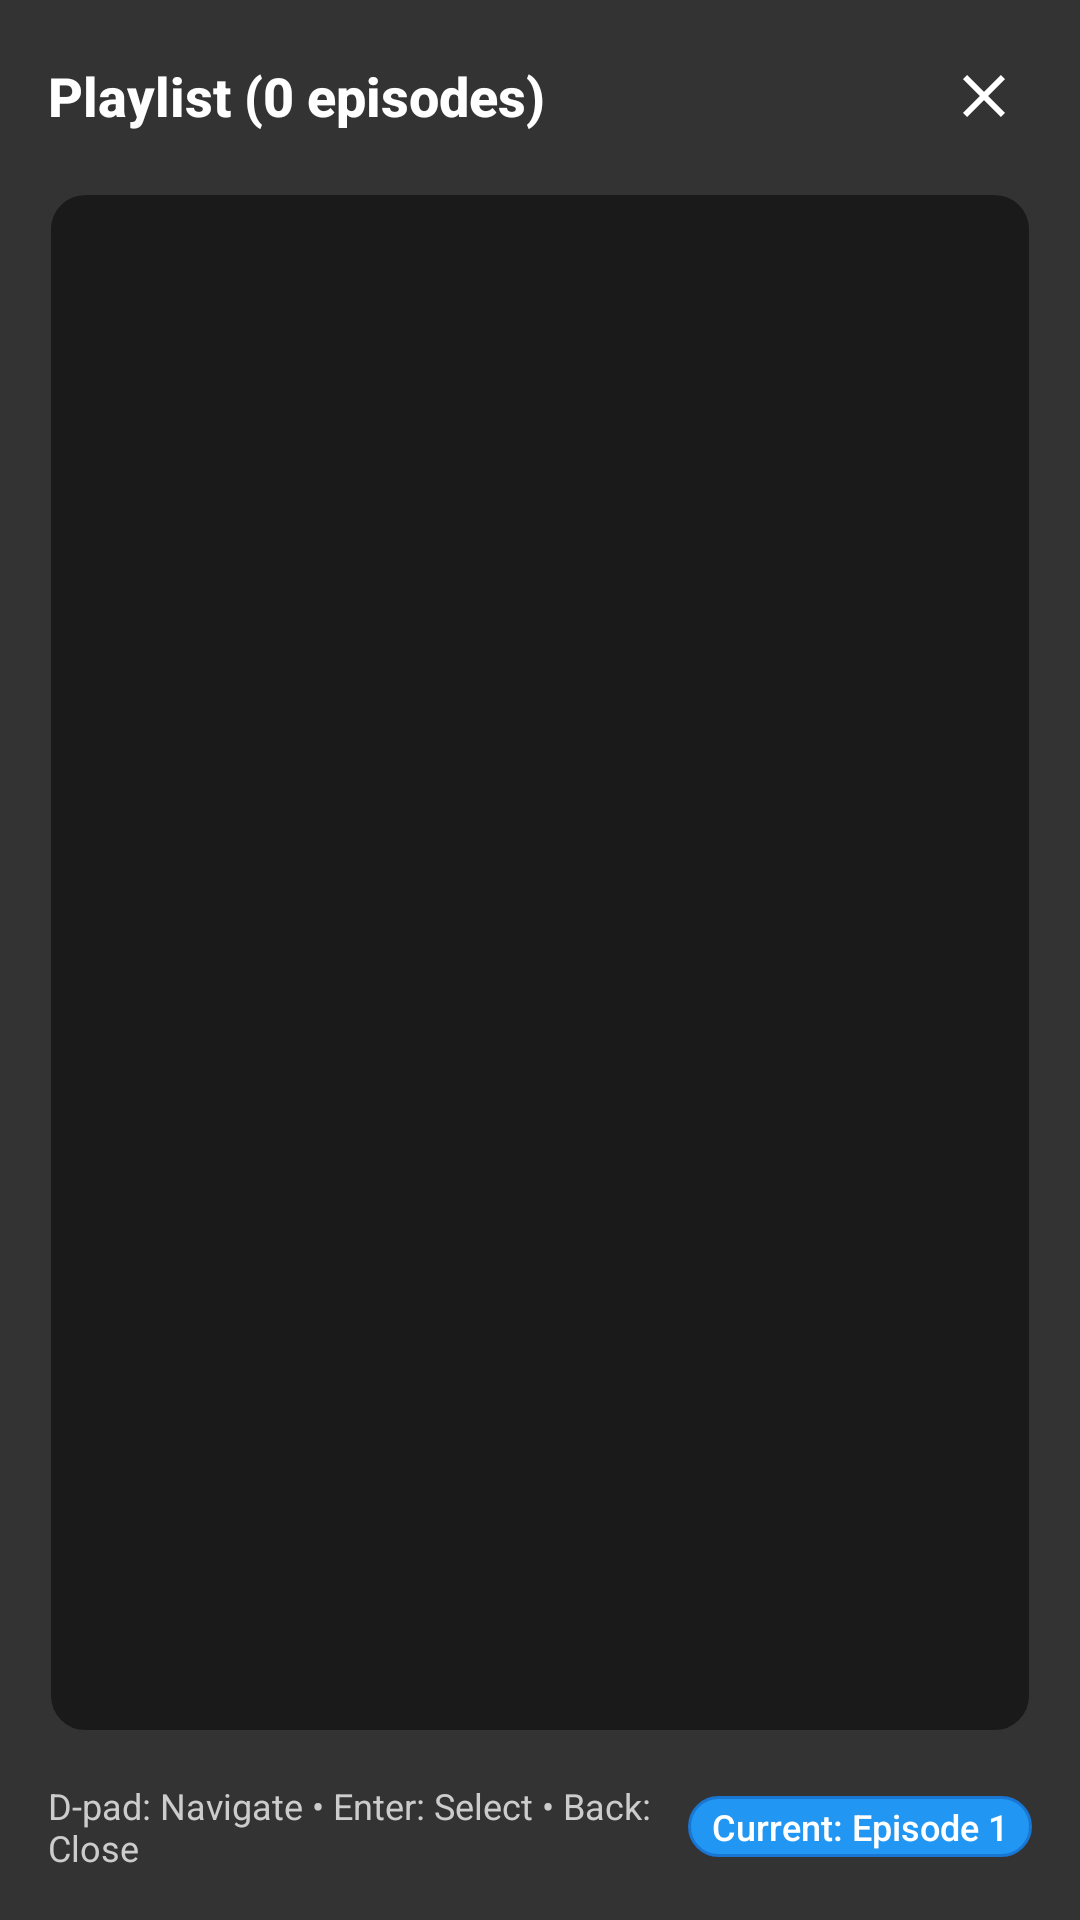

Icon bounding boxes for this 1080*1920 phone screenshot, format (x1, y1, x2, y2):
Close Playlist: (963, 75, 1005, 117)
